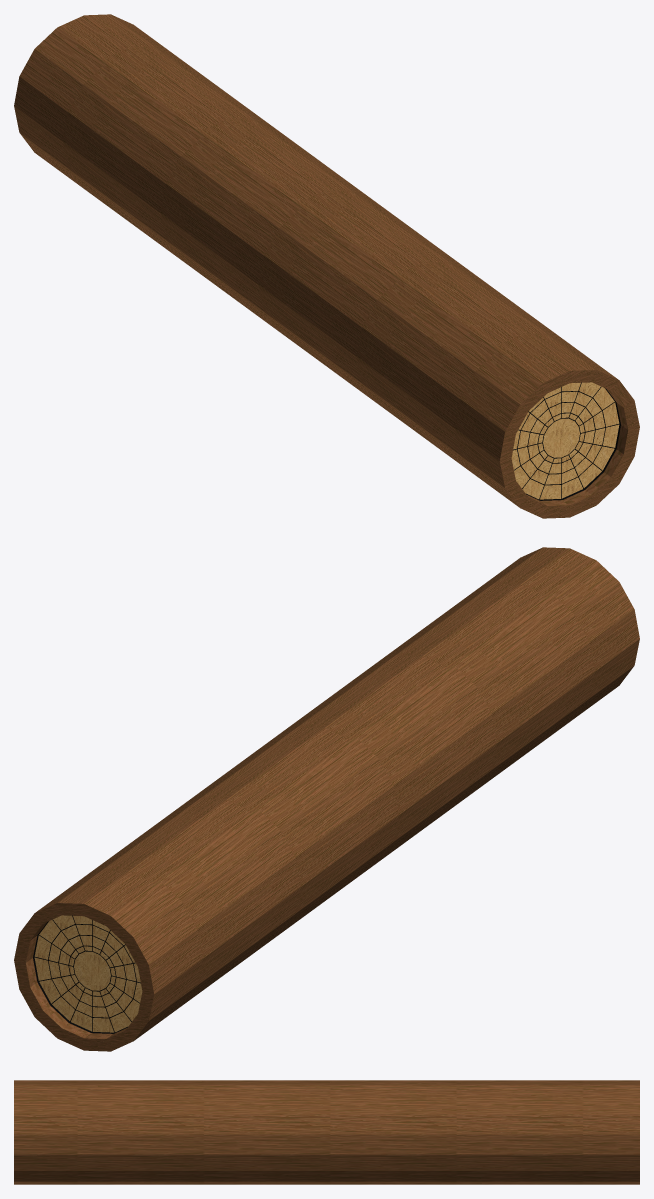
The model's file is log.fbx.
3 renders of one model, top to bottom at view 1: azimuth 30°, elevation 25°; view 2: azimuth 150°, elevation 25°; view 3: azimuth 270°, elevation 25°, orthographic. The views are drawn at different scales.
Visible parts, largest first — view 1: Cylinder.001; view 2: Cylinder.001; view 3: Cylinder.001.
Part boxes in pixels (x1,y1,x2,y2): Cylinder.001: [14, 14, 639, 518]; Cylinder.001: [14, 547, 639, 1051]; Cylinder.001: [14, 1080, 639, 1184].
Bounding box in the file's own units: 200 × 200 × 1200.
3 materials, 2 textured.
